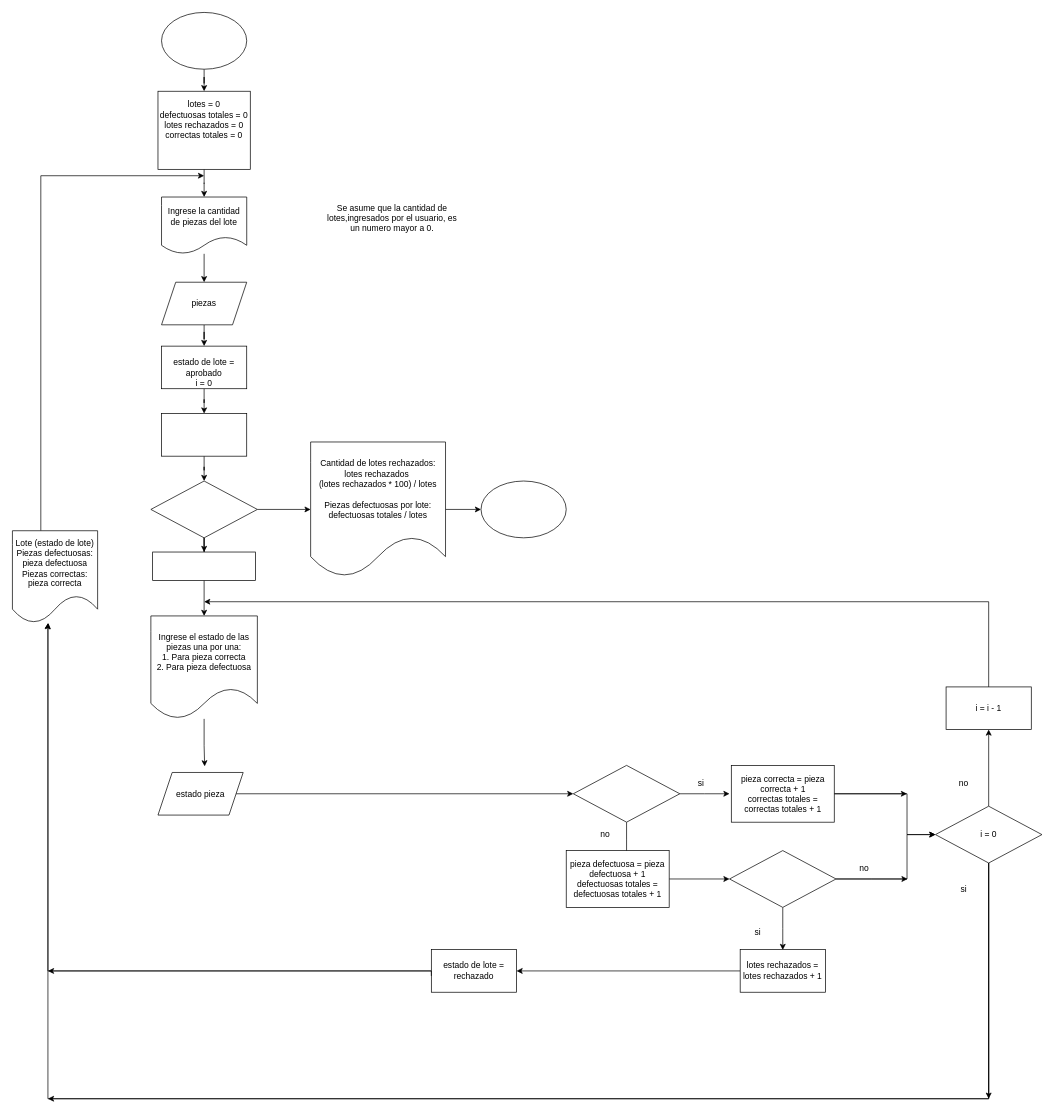
Some shapes in this 1054 by 1117 pixel diagram are drawn without their labels. The shapes that lost their labels are listed below. From the top down, each one's box as (x1, y1, x2, y2) in pixels, then its label:
(161, 12, 247, 69): inicio
(161, 413, 247, 456): pieza defectuosa = 0 pieza correcta = 0
(150, 480, 257, 538): piezas > 0
(480, 480, 566, 538): FIN
(152, 551, 256, 580): i = piezas lotes = lotes + 1
(573, 765, 680, 822): estado pieza = 1
(729, 850, 836, 907): pieza defectuosa > 3
